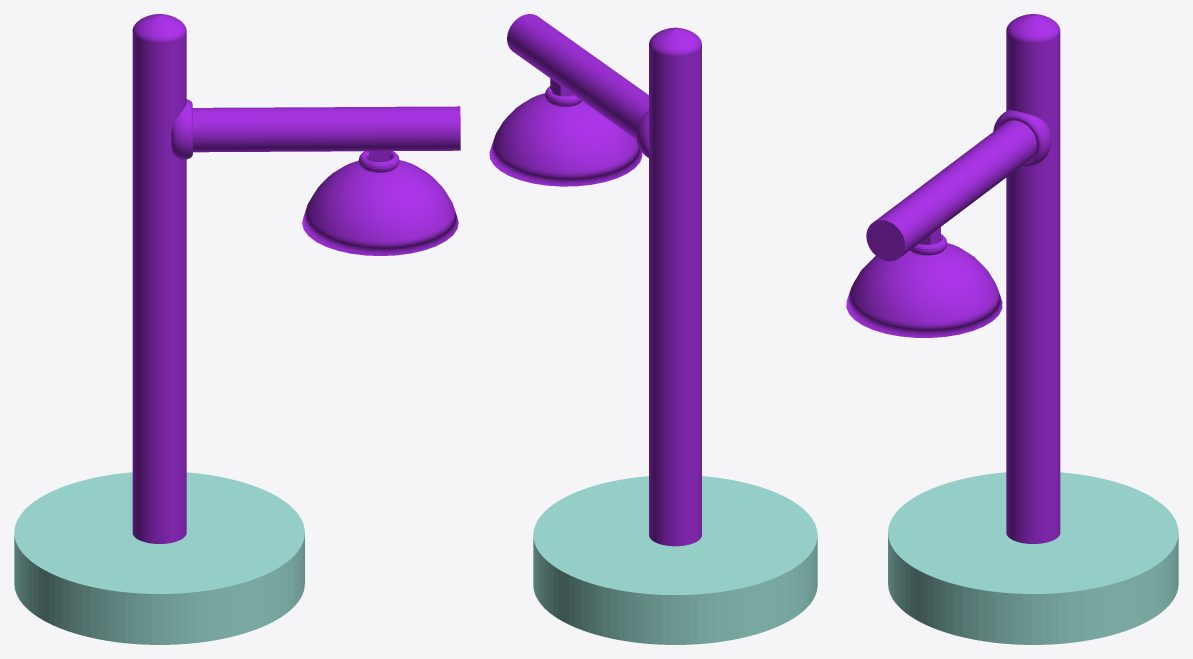
The model's file is Lamp.glb.
3 views of the same model, side by side, from view 1: azimuth 30°, elevation 25°; view 2: azimuth 150°, elevation 25°; view 3: azimuth 270°, elevation 25° (orthographic). The views are drawn at different scales.
Visible parts, largest first — view 1: Cylinder.003; view 2: Cylinder.003; view 3: Cylinder.003.
Part boxes in pixels (bbox=[...]): Cylinder.003: bbox=[14, 14, 460, 644]; Cylinder.003: bbox=[489, 14, 817, 644]; Cylinder.003: bbox=[846, 14, 1178, 644].
Size of the model in its own units: 4.83 by 7.25 by 3.84.
